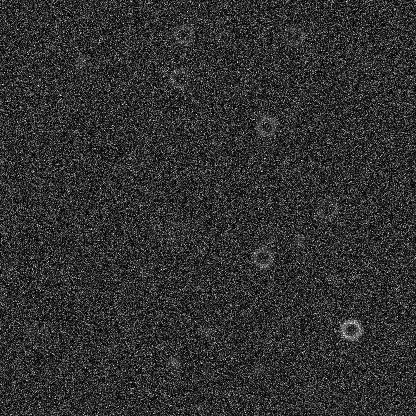Ring: (171, 22, 195, 46), (314, 197, 338, 221), (250, 245, 274, 269), (254, 114, 278, 138), (166, 66, 190, 90), (281, 24, 305, 48), (338, 317, 362, 341), (164, 219, 188, 243)
Spot: (249, 361, 265, 377), (165, 354, 181, 370), (303, 385, 319, 401), (290, 232, 306, 248), (200, 322, 216, 338), (21, 322, 37, 338), (73, 53, 89, 69)
